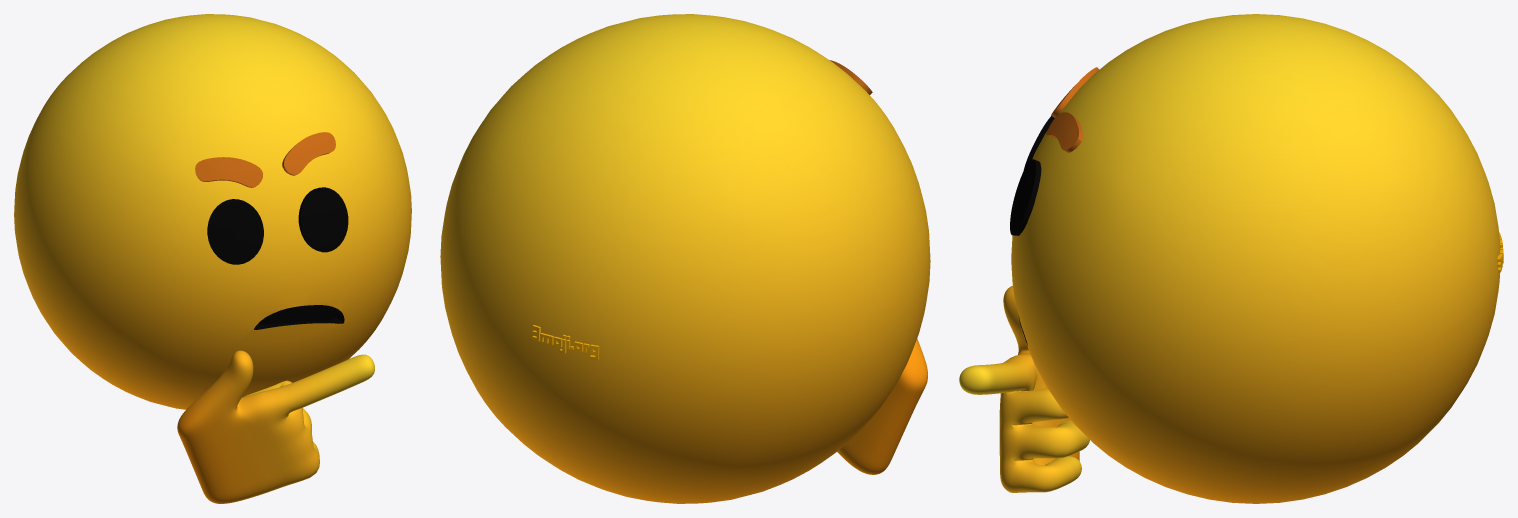
Rendered from thinking_face.gltf.
3 renders of one model, left to right at view 1: azimuth 30°, elevation 25°; view 2: azimuth 150°, elevation 25°; view 3: azimuth 270°, elevation 25°, orthographic. The views are drawn at different scales.
Parts seen in each view (by area): view 1: thinking_face; view 2: thinking_face; view 3: thinking_face.
Boxes of the visible parts, box(x1,y1,x2,y2) form: thinking_face: box(14, 14, 411, 503); thinking_face: box(440, 14, 930, 503); thinking_face: box(959, 14, 1503, 503).
Bounding box in the file's own units: 1.69 × 1.85 × 1.88.
2 materials, 2 textured.
